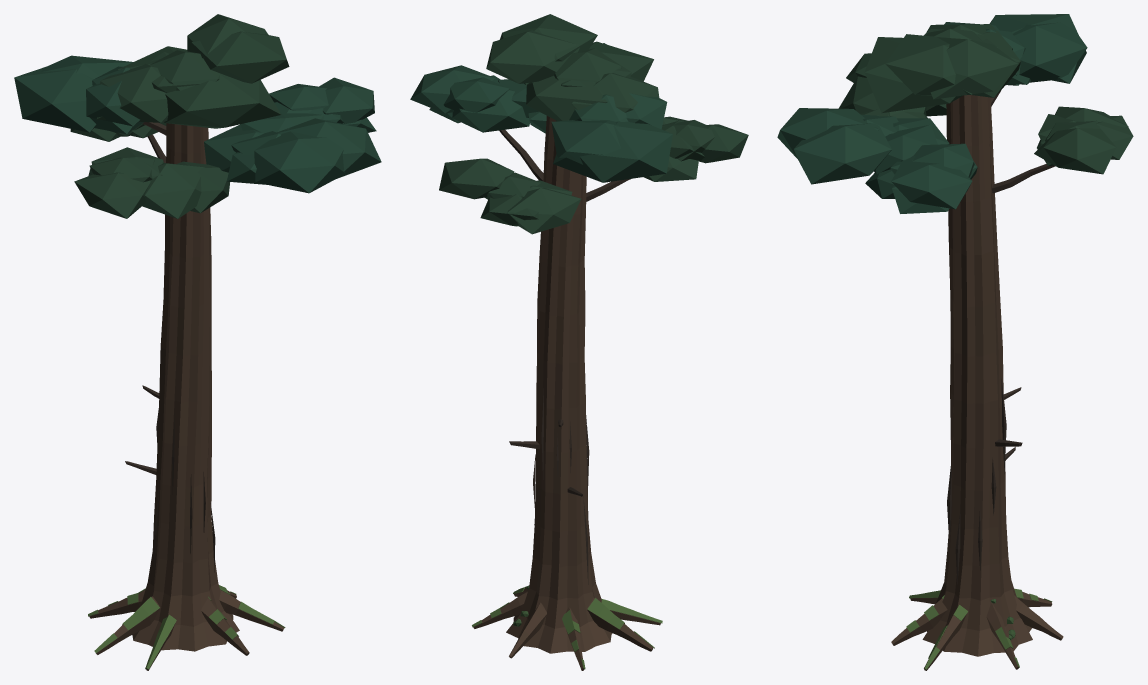
The model's file is GiantTrunk_A.glb.
3 views of the same model, side by side, from view 1: azimuth 30°, elevation 25°; view 2: azimuth 150°, elevation 25°; view 3: azimuth 270°, elevation 25° (orthographic). The views are drawn at different scales.
Parts seen in each view (by area): view 1: Trunk__Bark, Canopy__LeafDark, CanopyB__Pine, Roots__Bark, RootMoss__Moss, Plates__BarkDark, Branches__BarkDark; view 2: Trunk__Bark, Canopy__LeafDark, CanopyB__Pine, Roots__Bark, RootMoss__Moss, Branches__BarkDark, Plates__BarkDark; view 3: Trunk__Bark, CanopyB__Pine, Canopy__LeafDark, Roots__Bark, RootMoss__Moss, Plates__BarkDark, Branches__BarkDark.
Boxes of the visible parts, bbox=[...] form: Trunk__Bark: bbox=[132, 123, 239, 651]; Canopy__LeafDark: bbox=[70, 14, 289, 218]; CanopyB__Pine: bbox=[14, 55, 381, 193]; Roots__Bark: bbox=[89, 589, 283, 670]; RootMoss__Moss: bbox=[88, 585, 285, 669]; Plates__BarkDark: bbox=[153, 408, 215, 579]; Branches__BarkDark: bbox=[125, 122, 166, 474]; Trunk__Bark: bbox=[506, 116, 612, 653]; Canopy__LeafDark: bbox=[439, 14, 748, 234]; CanopyB__Pine: bbox=[410, 43, 672, 182]; Roots__Bark: bbox=[473, 587, 660, 670]; RootMoss__Moss: bbox=[472, 586, 662, 668]; Branches__BarkDark: bbox=[499, 129, 631, 496]; Plates__BarkDark: bbox=[533, 388, 589, 584]; Trunk__Bark: bbox=[922, 95, 1032, 656]; CanopyB__Pine: bbox=[777, 14, 1087, 213]; Canopy__LeafDark: bbox=[838, 24, 1133, 174]; Roots__Bark: bbox=[891, 591, 1063, 670]; RootMoss__Moss: bbox=[906, 588, 1052, 669]; Plates__BarkDark: bbox=[947, 378, 1006, 583]; Branches__BarkDark: bbox=[967, 91, 1055, 460].
Size of the model in its own units: 0.7058 by 1.33 by 0.6949.
